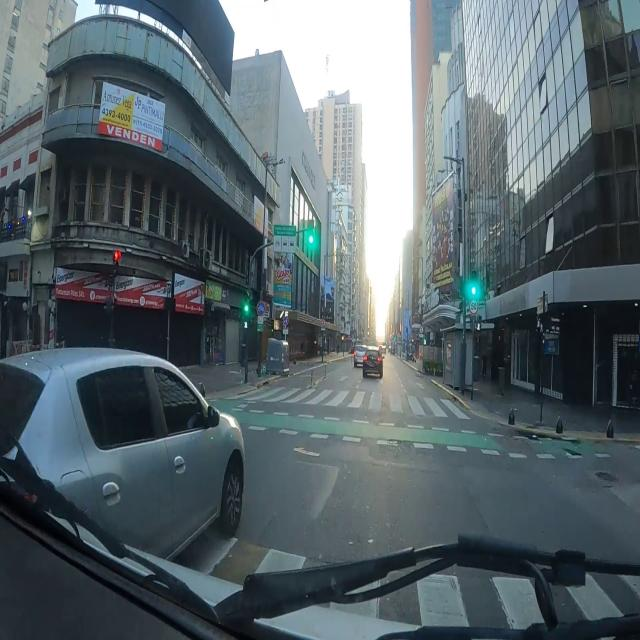car: (0, 348, 244, 557), (363, 347, 383, 378), (354, 345, 366, 367)
